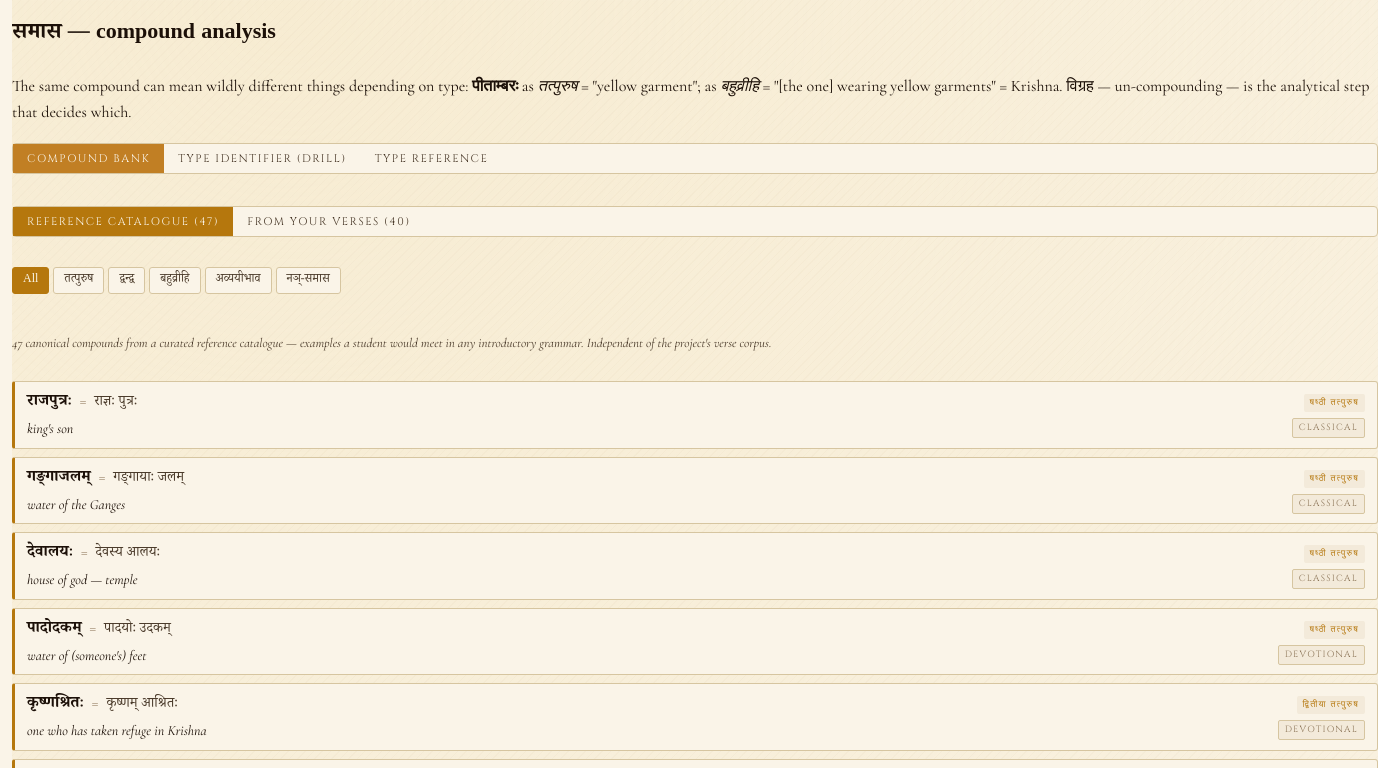
Test: Samasa — Compound bank › clicking "From your verses" switches to verse-grown bank
The image size is (1378, 768).
Click the button "From your verses (40)" at (329, 222), box x1=233 y1=207 x2=425 y2=236
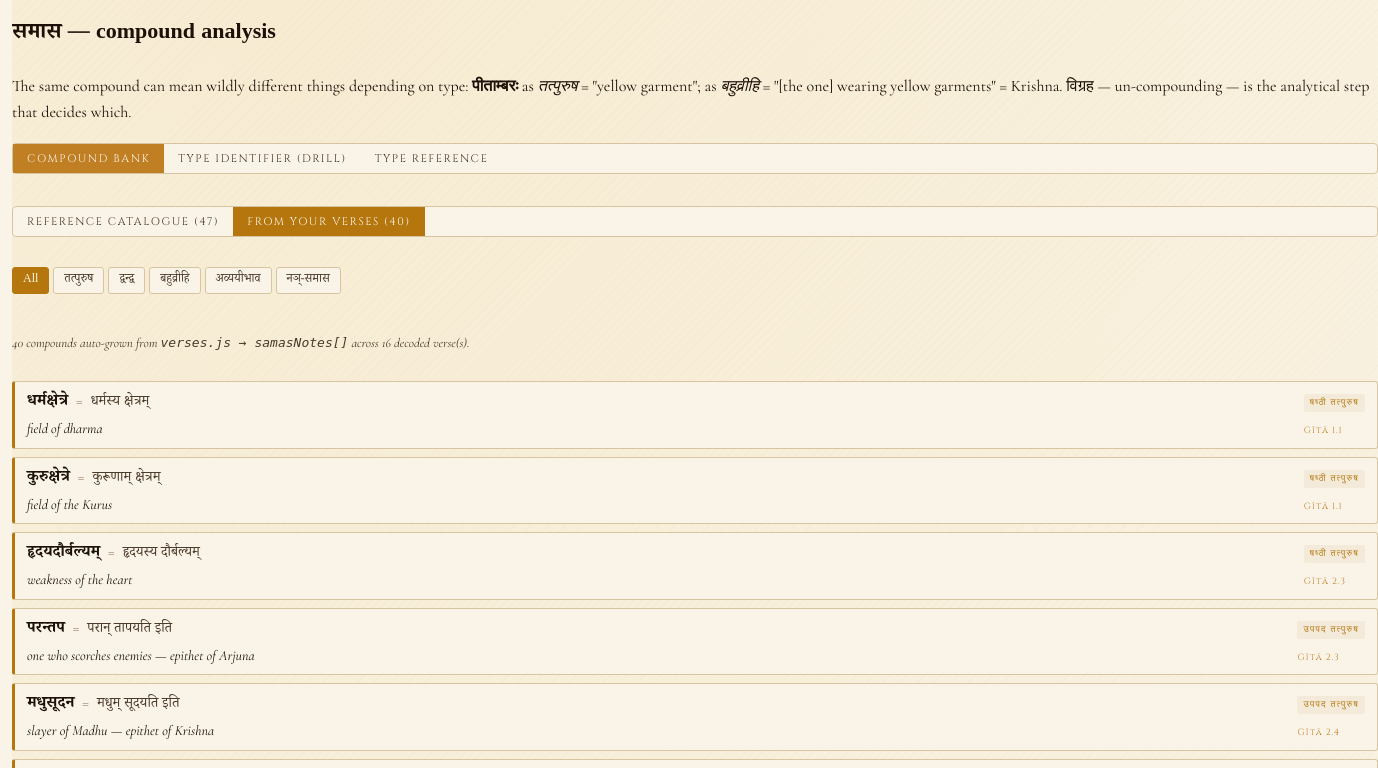
expect the text "auto-grown" is shown: met, box x1=77 y1=335 x2=161 y2=351
